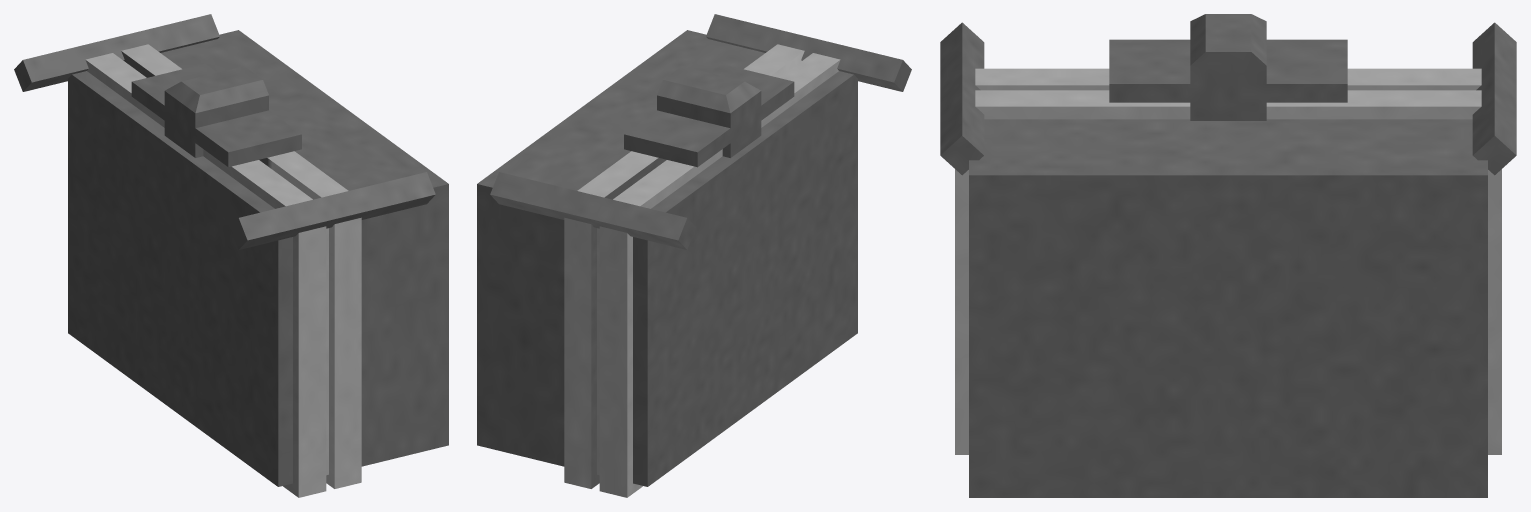
The model's file is gun_base.fbx.
3 renders of one model, left to right at view 1: azimuth 30°, elevation 25°; view 2: azimuth 150°, elevation 25°; view 3: azimuth 270°, elevation 25°, orthographic. The views are drawn at different scales.
Parts seen in each view (by area): view 1: gunBase; view 2: gunBase; view 3: gunBase.
Boxes of the visible parts, x1,y1,x2,y2 form: gunBase: (14,14,448,497); gunBase: (477,14,911,497); gunBase: (940,14,1516,497).
Size of the model in its own units: 28.45 by 41.83 by 54.02.
